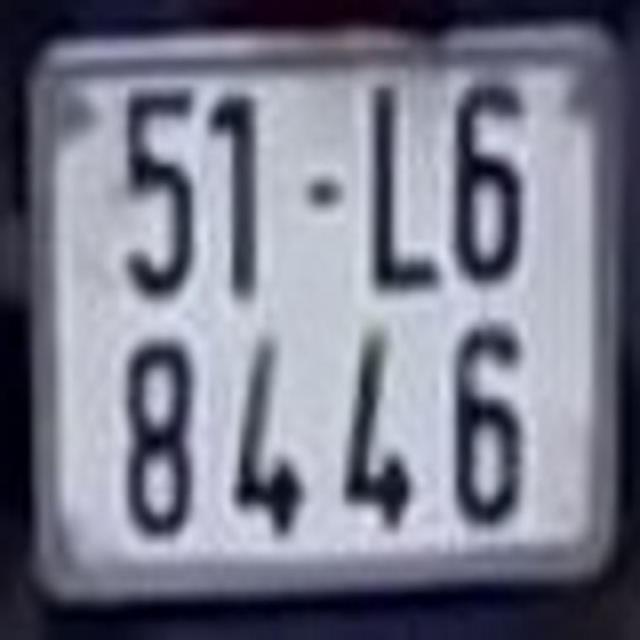1: (207, 91, 260, 295)
4: (238, 334, 300, 540), (348, 332, 408, 527)
5: (126, 91, 196, 287)
6: (449, 316, 524, 518), (456, 82, 524, 273)
8: (128, 331, 190, 536)
L: (371, 84, 442, 284)
